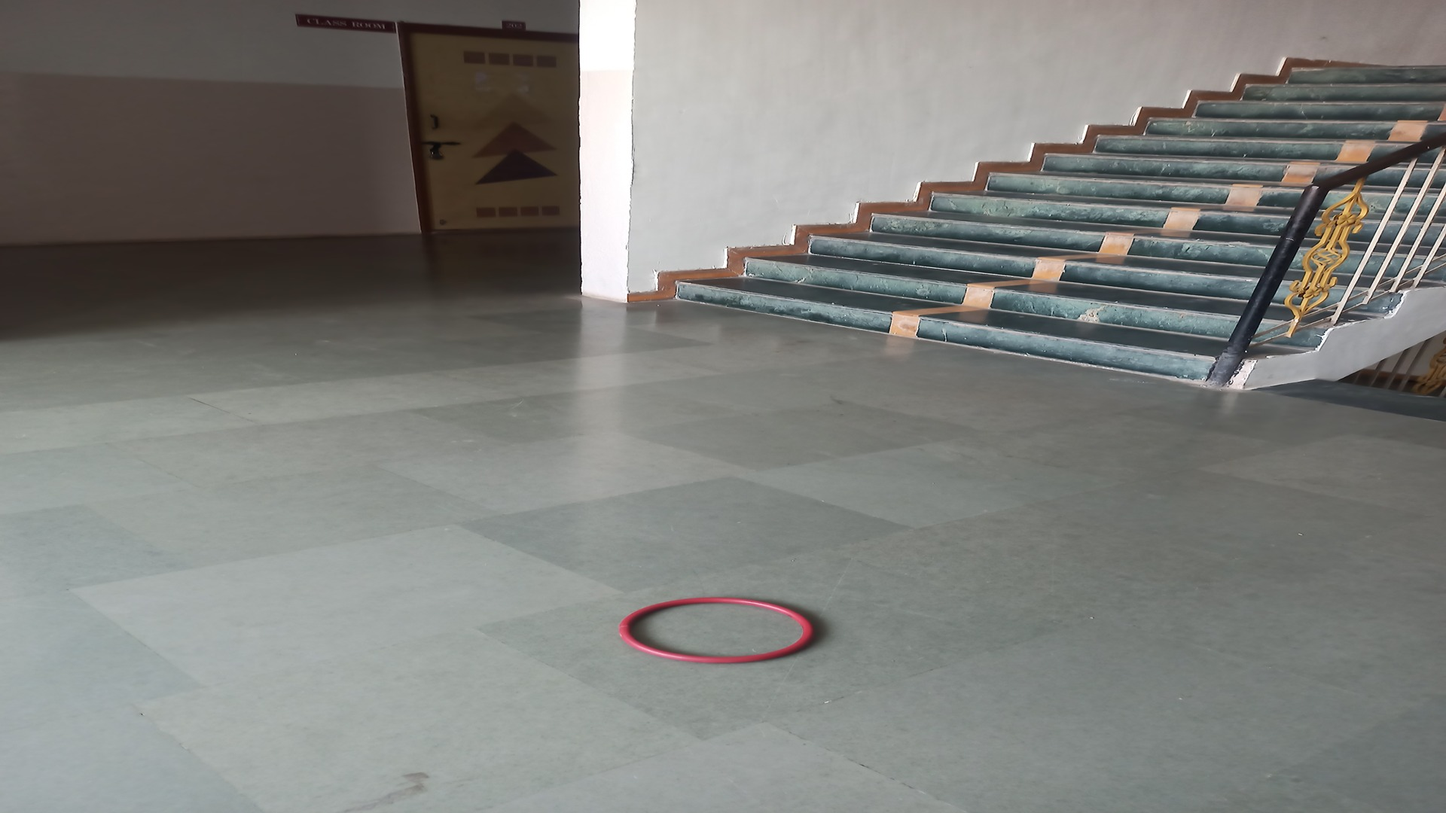Red ring: (617, 595, 816, 665)
